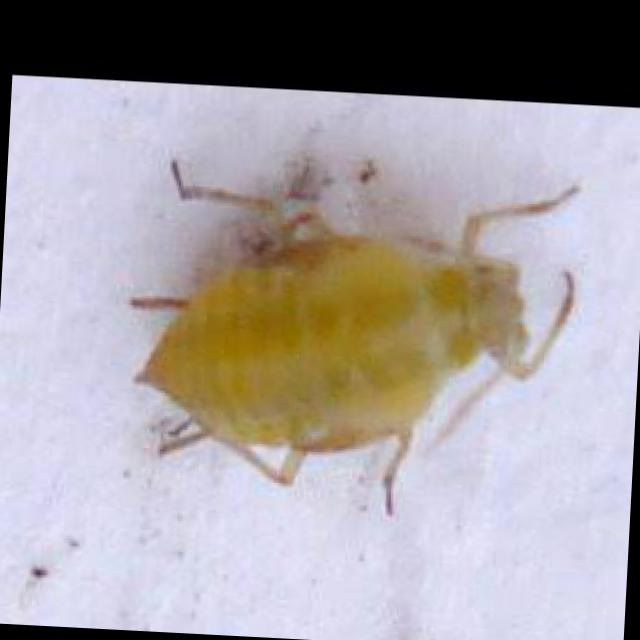Aphids: (72, 107, 606, 540)
